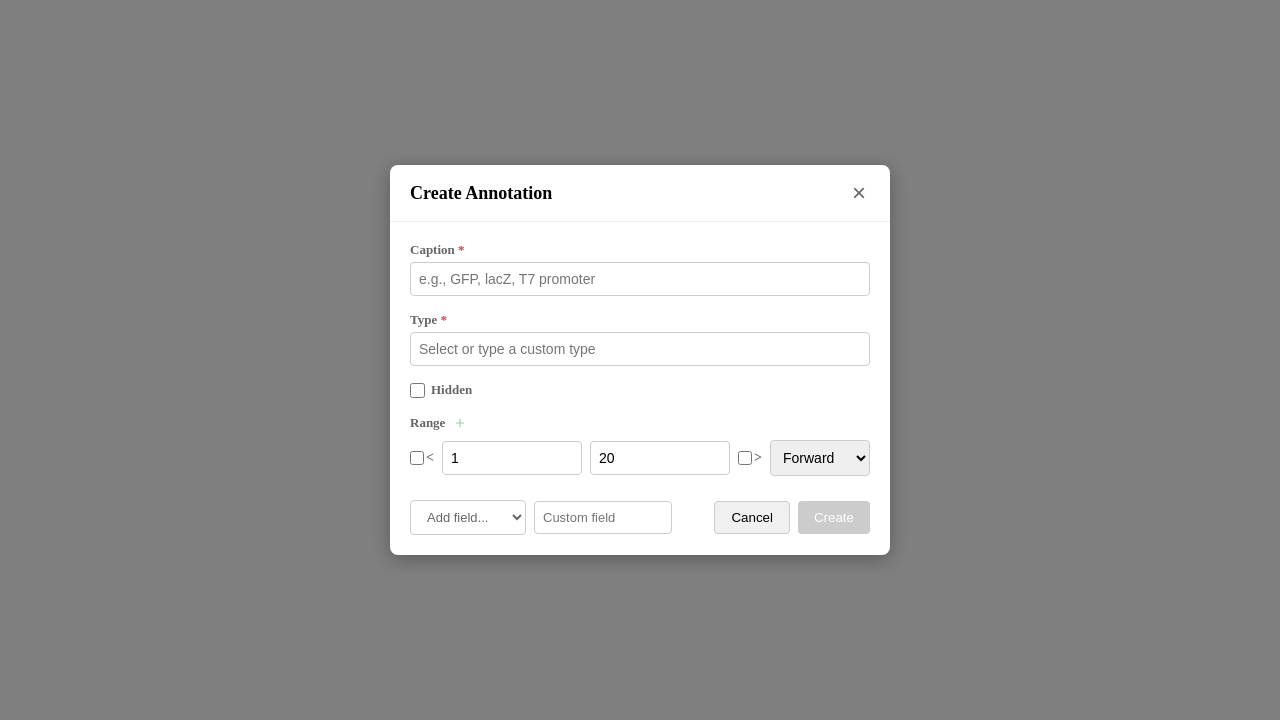
Test case: AnnotationModal › form validation › shows overlap error on second overlapping range
The image size is (1280, 720).
// Add overlapping range
Click the button with class "btn-add-range" at (460, 423), box [451, 414, 469, 432]
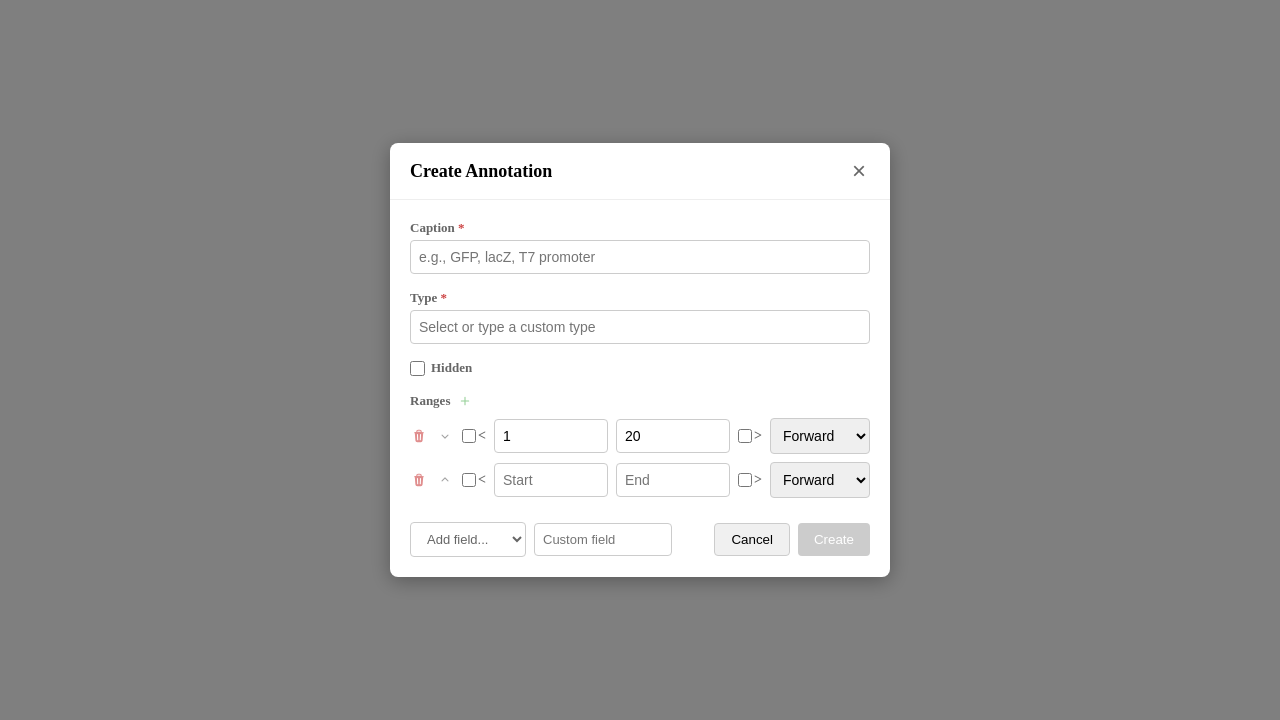
Type "10" into the number field with class "range-start" showing "Start" at (551, 480), box [494, 463, 608, 497]
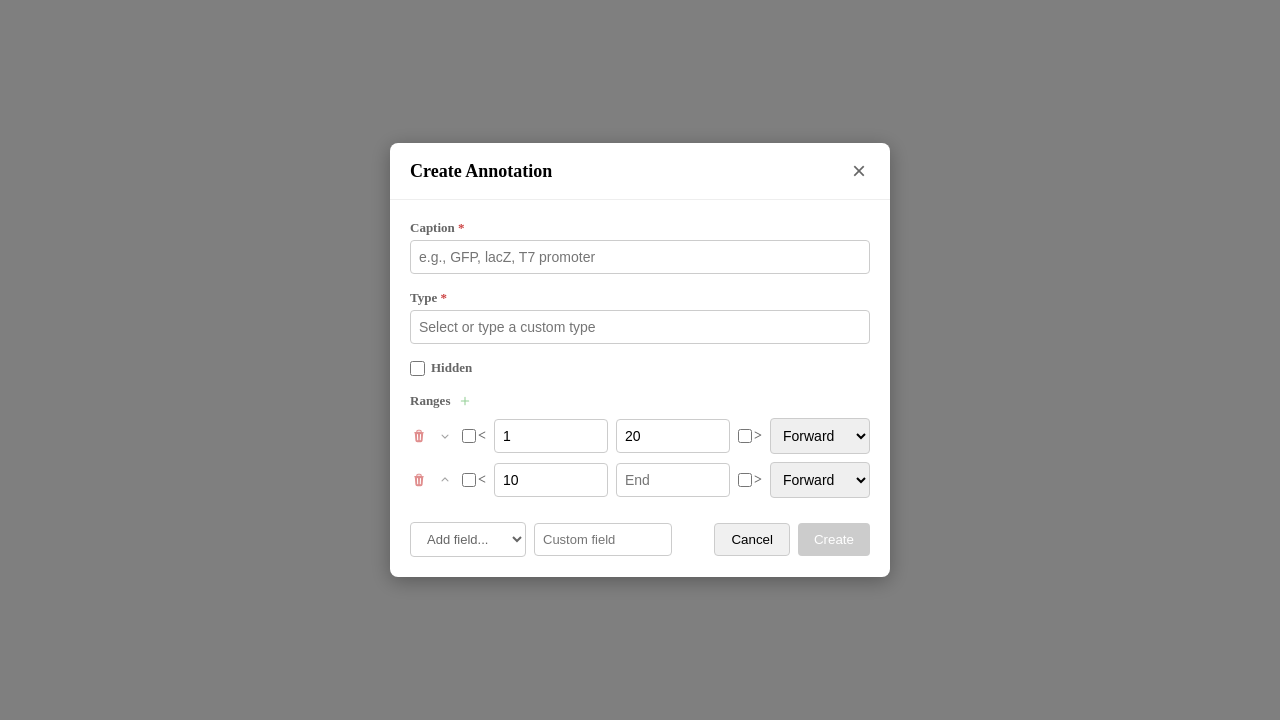
Type "30" into the number field with class "range-end" showing "End" at (673, 480), box [616, 463, 730, 497]
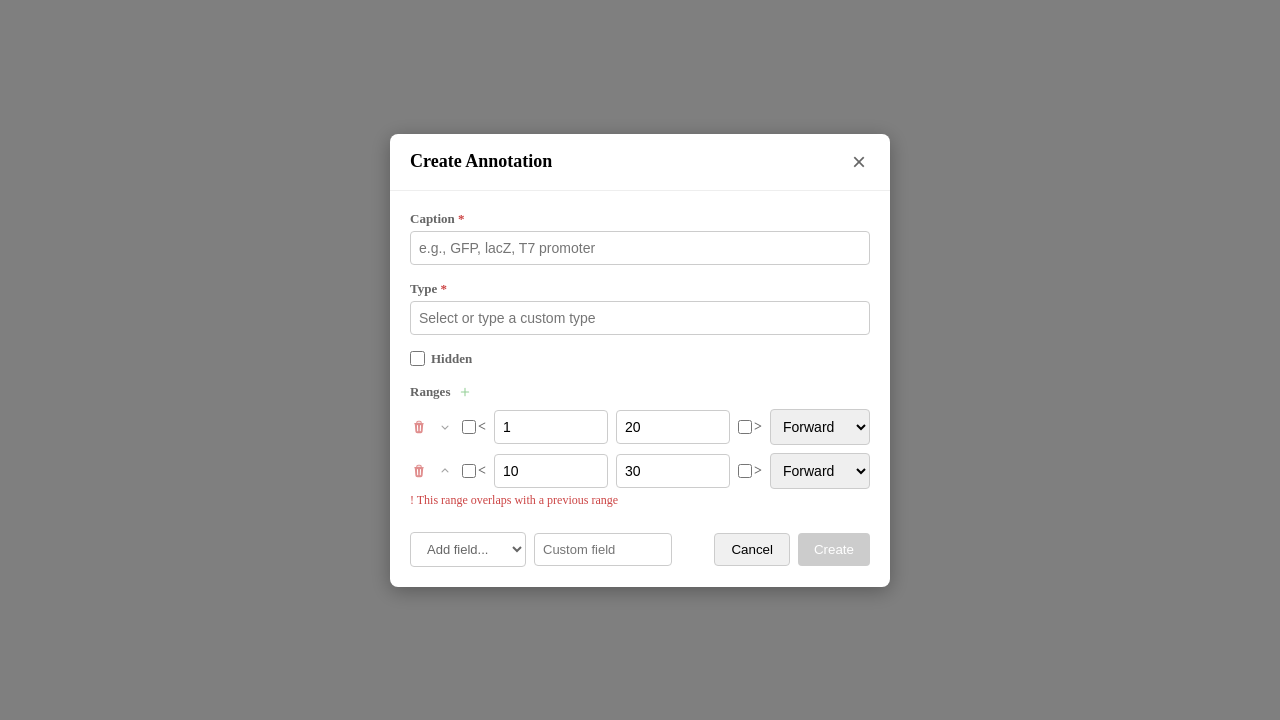
expect the number of elements with class "range-overlap-error" is 1: met, box [410, 492, 618, 506]
